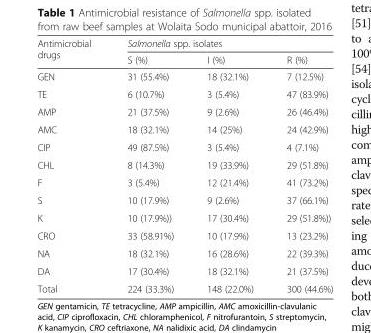table: (36, 37, 332, 294)
table column: (108, 37, 189, 294), (189, 37, 269, 294), (36, 37, 108, 294), (269, 37, 332, 294)
table column header: (36, 37, 332, 67)
table row: (36, 84, 332, 102), (36, 102, 332, 120), (36, 120, 332, 138), (36, 155, 332, 173), (36, 173, 332, 191), (36, 208, 332, 226), (36, 226, 332, 244), (36, 261, 332, 279), (36, 67, 332, 84), (36, 138, 332, 155), (36, 191, 332, 208), (36, 244, 332, 261), (36, 51, 332, 67), (36, 279, 332, 294), (36, 37, 332, 51)
table spanning cell: (108, 37, 332, 51), (36, 37, 108, 67)
